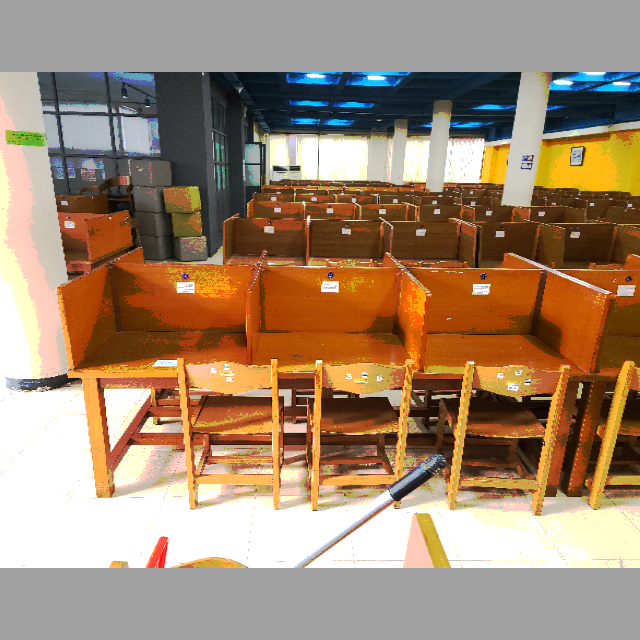empty: (59, 267, 250, 432), (434, 261, 593, 445), (253, 269, 424, 440)
